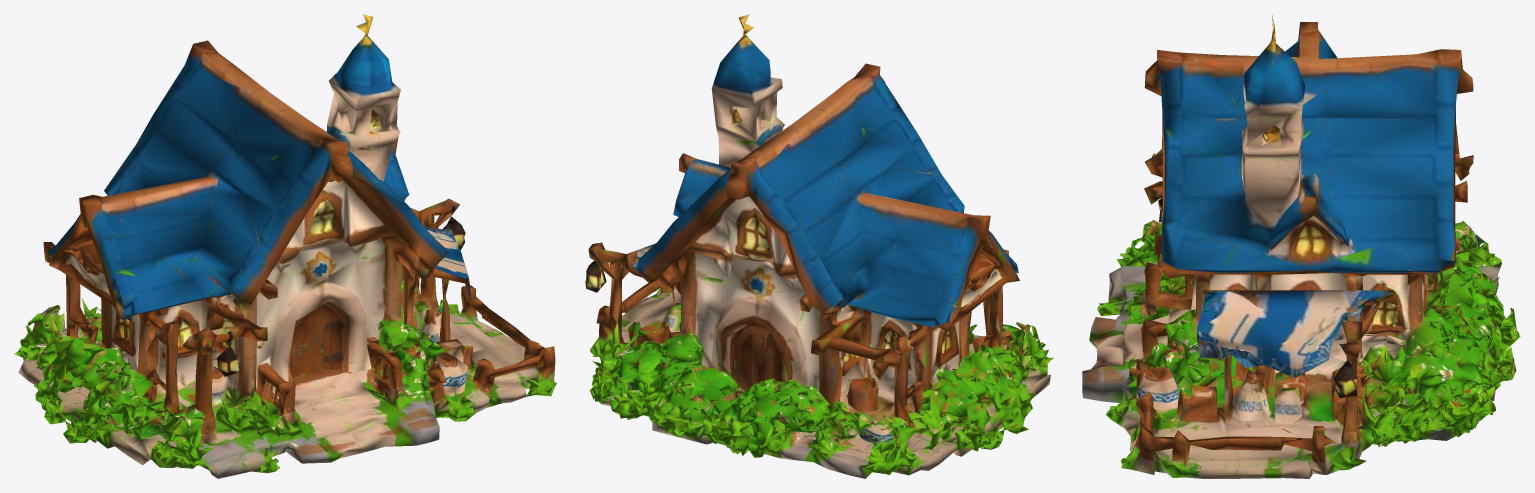
The model's file is bazaar-cottage.glb.
The picture shows the model from 3 angles, left to right: view 1: azimuth 30°, elevation 25°; view 2: azimuth 150°, elevation 25°; view 3: azimuth 270°, elevation 25°; orthographic projection. The views are drawn at different scales.
Size of the model in its own units: 1.86 by 1.49 by 1.51.
1 material, 1 textured.
